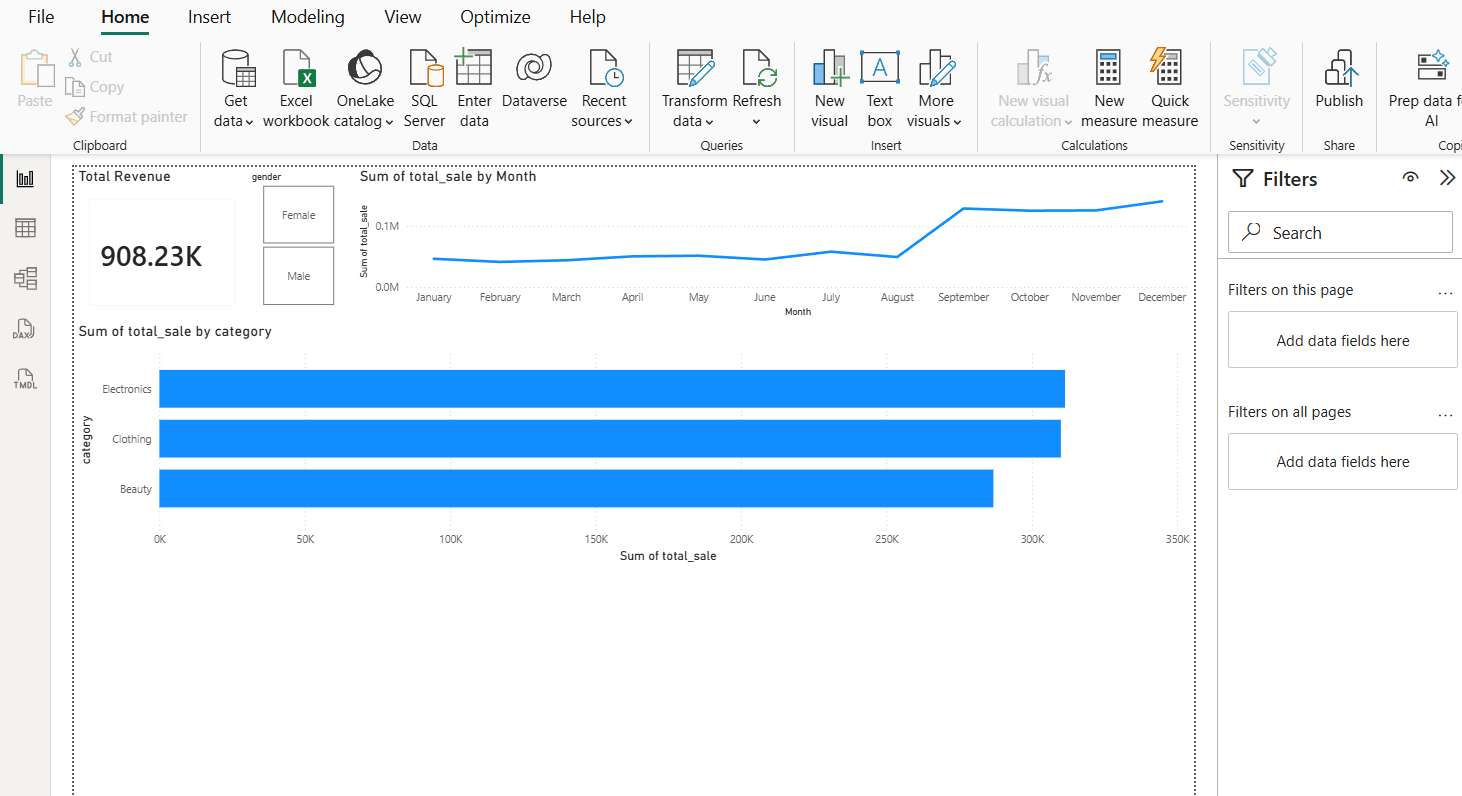

Layout of this report page (visuals, bound fields, positions):
{"tool":"powerbi","page":{"name":"Page 1","canvas":[1280,720],"ordinal":0},"visuals":[{"type":"clusteredBarChart","fields":{"Category":["public retail_sales.category"],"Y":["Sum(public retail_sales.total_sale)"]},"box":[0,177.1,1280,280],"z":0},{"type":"cardVisual","title":"Total Revenue","fields":{"Data":["Sum(public retail_sales.total_sale)"]},"box":[0,0,201.4,177.1],"z":1},{"type":"lineChart","fields":{"Category":["public retail_sales.sale_date.Variation.Date Hierarchy.Month"],"Y":["Sum(public retail_sales.total_sale)"]},"box":[321.4,0,958.6,177.1],"z":2},{"type":"slicer","fields":{"Values":["public retail_sales.gender"]},"box":[190,0,131.4,164.3],"z":3}]}

Visuals, with their boxes on the page's 1280x720 design canvas (x1, y1, x2, y2). These are canvas units, not pixel positions in the 1462x796 screenshot, which may show the page scaled, cropped or inside an application window:
clusteredBarChart - public retail_sales.category x Sum(public retail_sales.total_sale): box=[0, 177, 1280, 457]
"Total Revenue" cardVisual: box=[0, 0, 201, 177]
lineChart - public retail_sales.sale_date.Variation.Date Hierarchy.Month x Sum(public retail_sales.total_sale): box=[321, 0, 1280, 177]
slicer - public retail_sales.gender: box=[190, 0, 321, 164]
